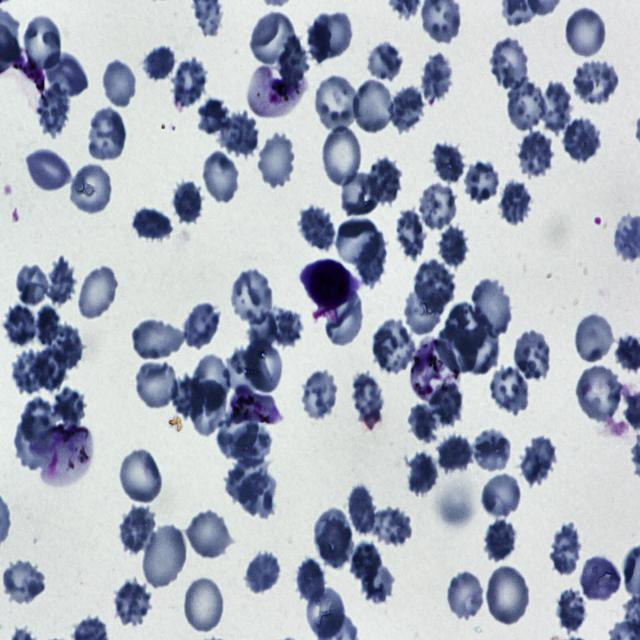leukocyte: (299, 258, 363, 313)
red blood cell: (141, 523, 188, 591), (484, 563, 532, 628), (574, 363, 624, 424), (248, 10, 298, 71), (227, 266, 276, 328), (320, 123, 364, 189), (314, 72, 361, 133), (471, 276, 515, 340), (118, 446, 164, 505), (67, 160, 113, 218), (182, 575, 226, 635), (352, 542, 394, 604), (569, 55, 620, 106), (314, 508, 354, 573), (351, 78, 396, 135), (85, 106, 130, 163), (23, 11, 63, 75), (256, 128, 297, 190), (191, 353, 232, 414), (185, 506, 232, 559), (134, 358, 180, 412), (76, 265, 120, 321), (413, 259, 456, 316), (564, 4, 608, 59), (309, 9, 356, 60), (574, 311, 616, 368), (488, 36, 531, 91), (25, 144, 72, 194), (298, 367, 341, 421), (242, 339, 283, 395), (416, 180, 460, 232), (404, 282, 446, 336), (0, 556, 47, 604), (350, 372, 386, 434), (202, 148, 241, 205), (44, 50, 88, 100), (488, 364, 532, 414), (324, 290, 364, 345), (374, 321, 417, 372), (512, 327, 550, 384), (446, 568, 486, 622), (112, 576, 155, 626), (13, 416, 52, 471), (132, 319, 184, 360), (225, 457, 270, 504), (306, 586, 345, 640), (436, 325, 478, 375), (34, 83, 74, 135), (335, 216, 378, 264), (190, 380, 226, 437), (562, 115, 602, 166), (419, 49, 456, 104), (580, 553, 621, 602), (518, 437, 558, 487), (120, 506, 160, 556), (462, 324, 500, 376), (218, 110, 260, 157), (516, 131, 557, 179), (101, 57, 138, 110), (508, 81, 546, 132), (341, 170, 382, 217), (14, 259, 52, 309), (298, 202, 336, 252), (170, 175, 207, 226), (181, 304, 221, 351), (366, 156, 402, 208), (473, 430, 513, 476), (238, 472, 278, 518), (461, 158, 500, 205), (496, 176, 533, 225), (230, 422, 272, 465), (292, 556, 328, 606), (354, 230, 386, 286), (388, 83, 424, 132), (171, 59, 207, 108), (245, 550, 283, 596), (429, 138, 467, 184), (482, 474, 522, 517), (20, 400, 58, 445), (551, 522, 582, 577), (48, 324, 84, 371), (32, 346, 68, 393), (540, 82, 572, 134), (395, 208, 427, 259), (170, 376, 206, 421), (554, 587, 586, 637), (437, 433, 475, 475), (2, 304, 36, 348), (484, 520, 517, 565), (374, 508, 413, 546), (132, 207, 174, 242), (431, 383, 464, 427), (348, 485, 377, 535), (436, 227, 474, 265), (13, 351, 45, 396), (366, 41, 402, 80), (408, 451, 439, 495), (407, 402, 439, 444), (52, 386, 85, 426), (48, 256, 74, 306), (142, 44, 176, 81), (273, 308, 303, 347), (246, 312, 276, 351)
trophozoite: (40, 420, 96, 490), (246, 63, 308, 119), (408, 336, 459, 404), (228, 383, 284, 426)
